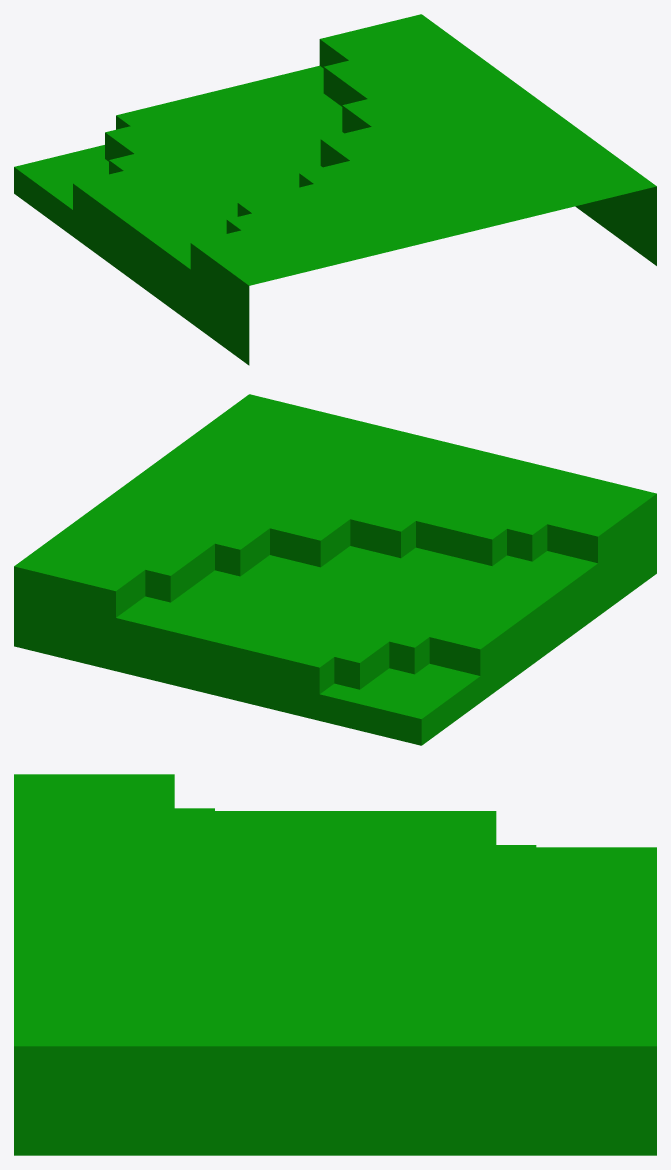
Rendered from Corner17.fbx.
3 views of the same model, one above another, from view 1: azimuth 30°, elevation 25°; view 2: azimuth 150°, elevation 25°; view 3: azimuth 270°, elevation 25° (orthographic). The views are drawn at different scales.
Visible parts, largest first — view 1: Matrix; view 2: Matrix; view 3: Matrix.
Part boxes in pixels (x1,y1,x2,y2): Matrix: (14,14,656,365); Matrix: (14,394,656,745); Matrix: (14,774,656,1155).
Size of the model in its own units: 16 by 3 by 16.
1 material, 1 textured.
